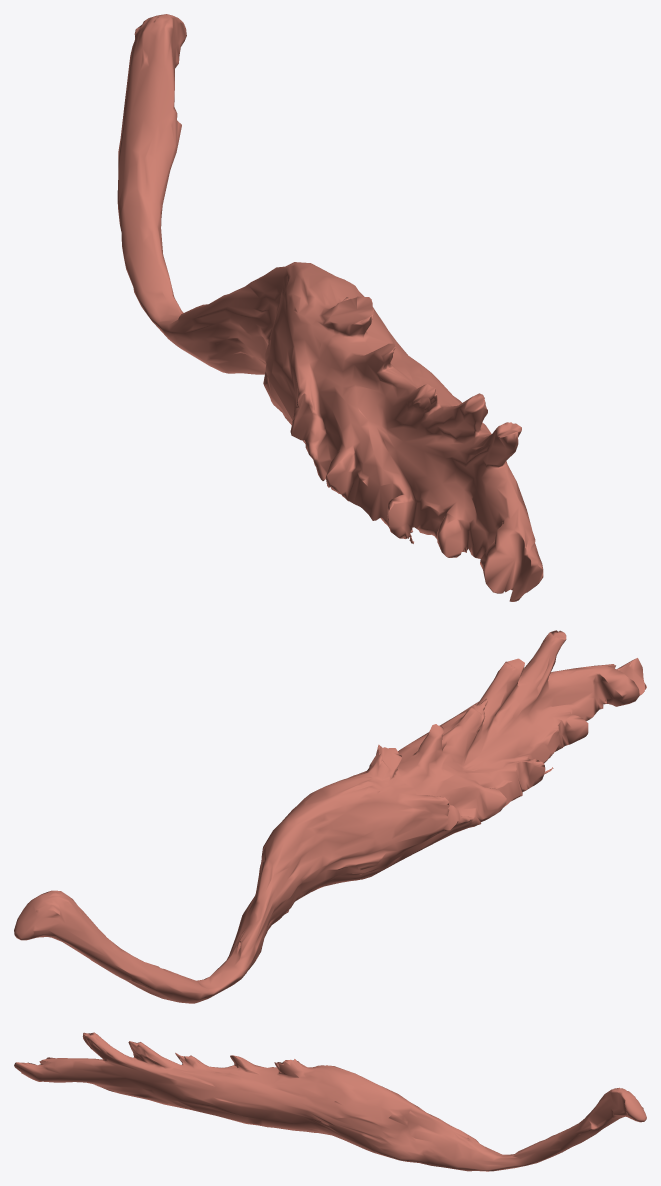
3 views of the same model, one above another, from view 1: azimuth 30°, elevation 25°; view 2: azimuth 150°, elevation 25°; view 3: azimuth 270°, elevation 25° (orthographic). The views are drawn at different scales.
Parts seen in each view (by area): view 1: 左侧腰大肌; view 2: 左侧腰大肌; view 3: 左侧腰大肌.
Boxes of the visible parts, box(x1,y1,x2,y2) form: 左侧腰大肌: box(117, 14, 543, 601); 左侧腰大肌: box(14, 630, 646, 1003); 左侧腰大肌: box(14, 1032, 646, 1171).
Size of the model in its own units: 0.1471 by 0.115 by 0.5598.
